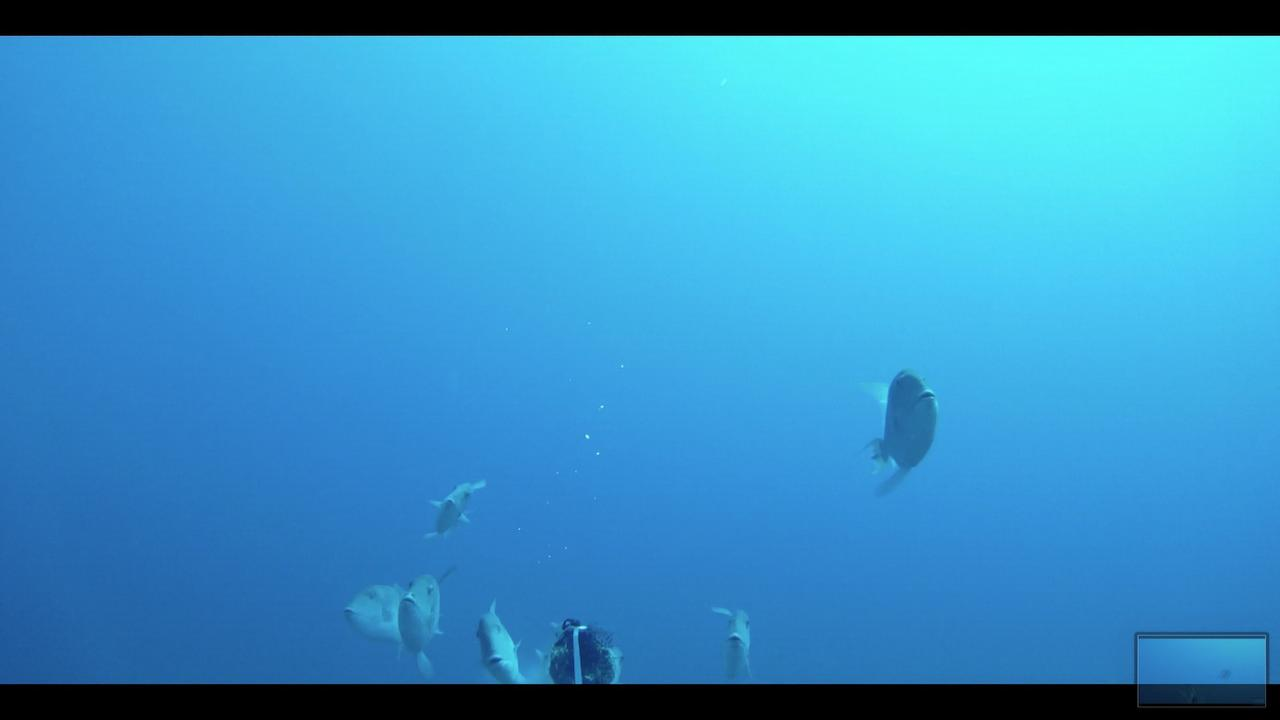balistes: (855, 367, 943, 496), (462, 590, 543, 682), (391, 562, 453, 679), (692, 600, 770, 682), (416, 472, 492, 543), (340, 576, 401, 642)
